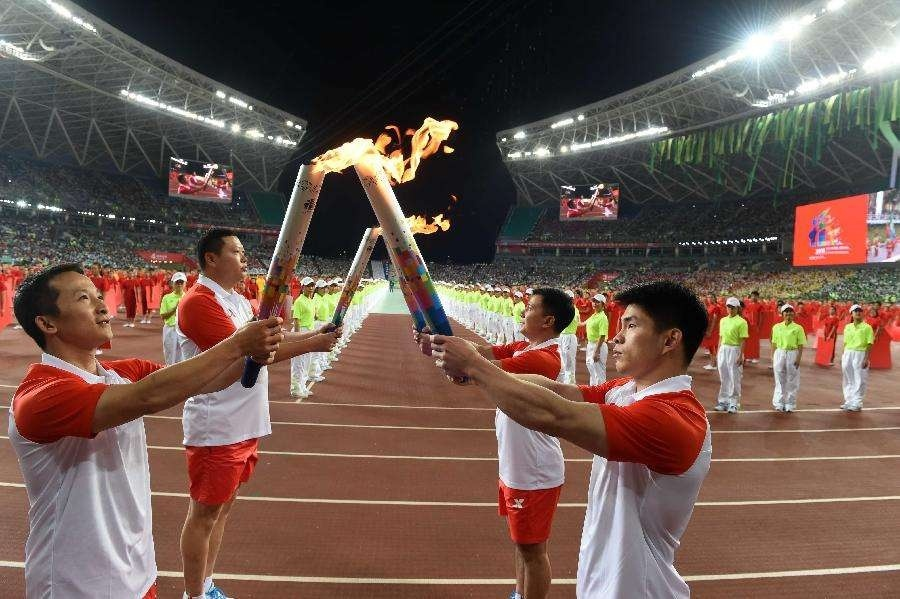fire: (309, 118, 461, 184)
